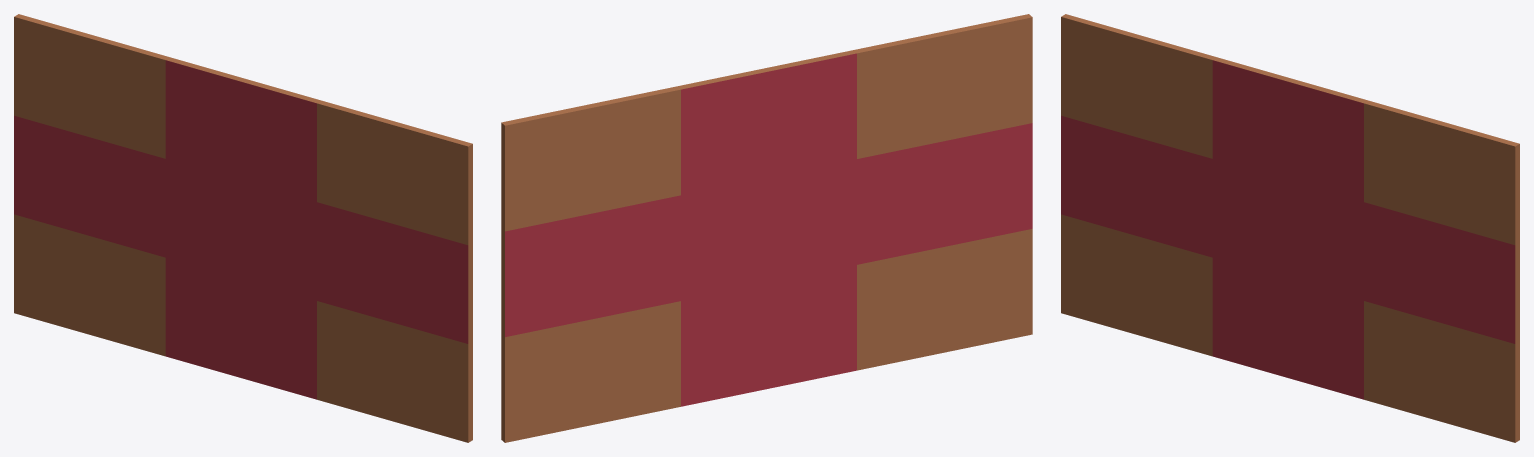
The model's file is CARD (1).fbx.
The picture shows the model from 3 angles, left to right: view 1: azimuth 90°, elevation 25°; view 2: azimuth 150°, elevation 25°; view 3: azimuth 270°, elevation 25°; orthographic projection. The views are drawn at different scales.
Visible parts, largest first — view 1: CARD; view 2: CARD; view 3: CARD.
Part boxes in pixels (x1,y1,x2,y2): CARD: (14,14,472,442); CARD: (501,14,1032,442); CARD: (1061,14,1519,442).
Bounding box in the file's own units: 95.94 × 100 × 140.
